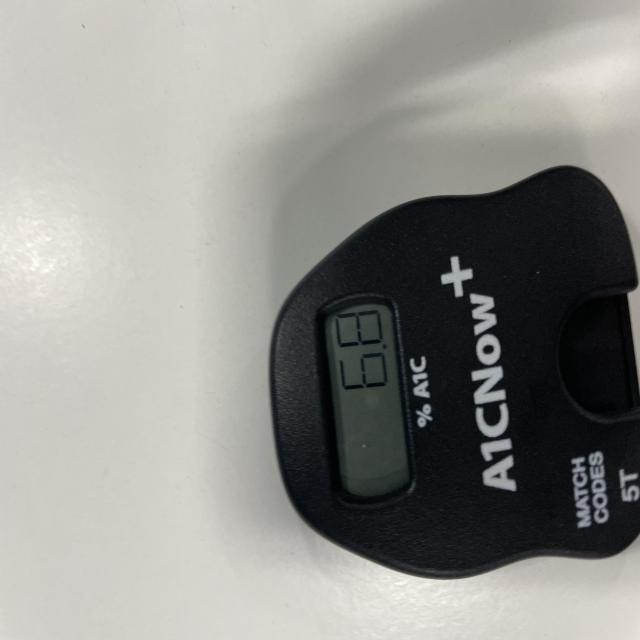hba1c: (267, 166, 640, 581)
